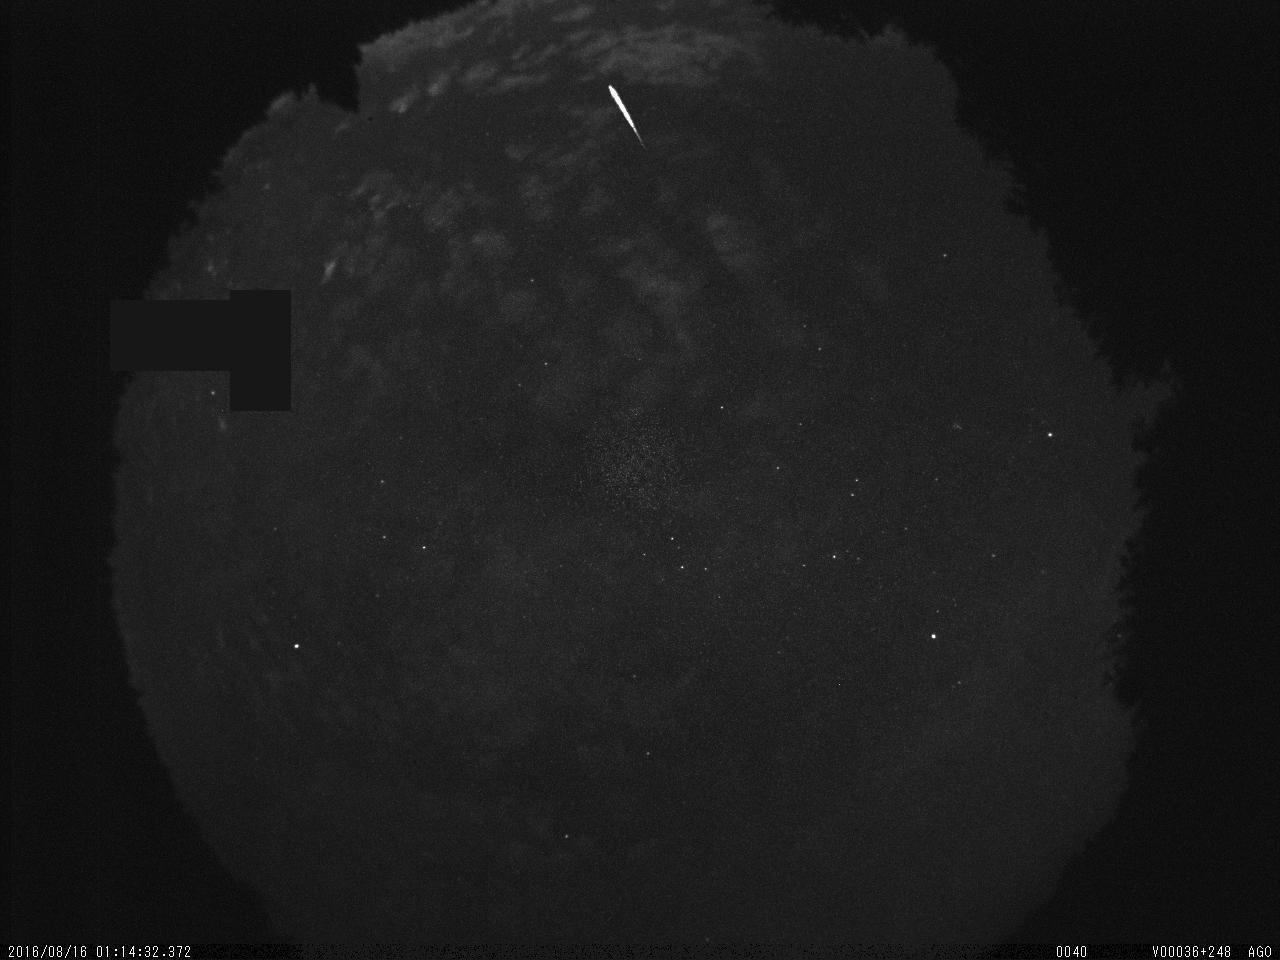Meteor: (605, 82, 646, 150)
